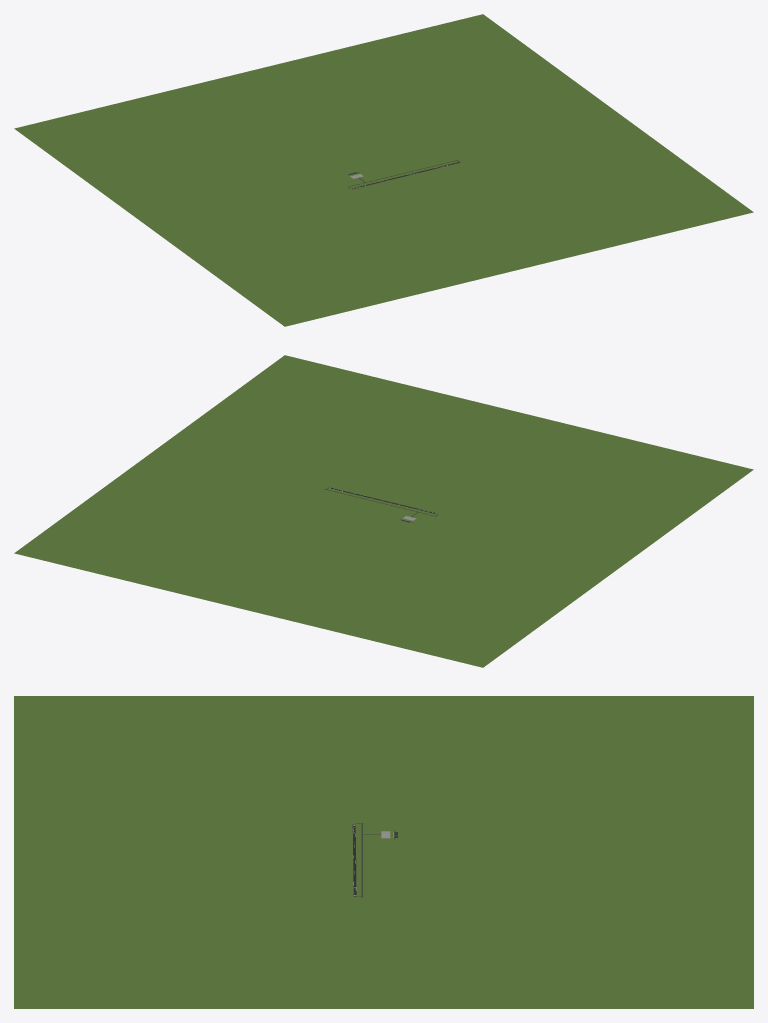
File: egll_airfield.glb
The picture shows the model from 3 angles, top to bottom: view 1: azimuth 30°, elevation 25°; view 2: azimuth 150°, elevation 25°; view 3: azimuth 270°, elevation 25°; orthographic projection. The views are drawn at different scales.
Parts seen in each view (by area): view 1: egll_airfield; view 2: egll_airfield; view 3: egll_airfield.
Boxes of the visible parts, x1=… form: egll_airfield: x1=14, y1=14, x2=753, y2=326; egll_airfield: x1=14, y1=355, x2=753, y2=667; egll_airfield: x1=14, y1=696, x2=753, y2=1008.
Bounding box in the file's own units: 16000 × 0.0536 × 16000.
